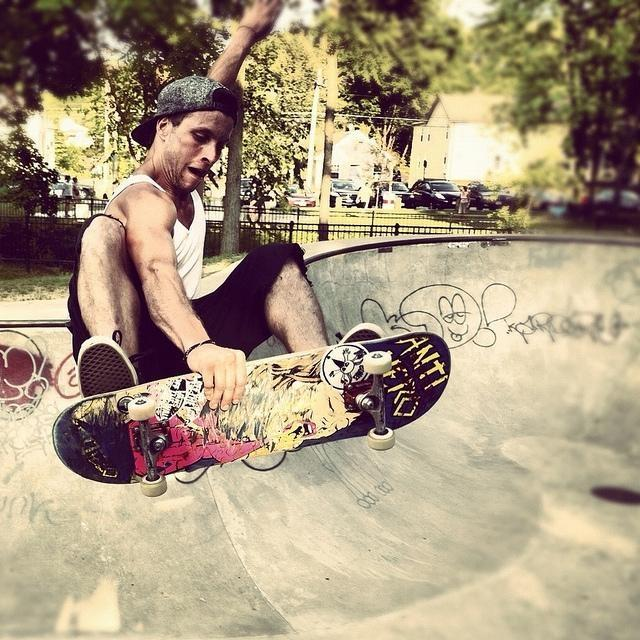car: (560, 188, 640, 221), (396, 178, 448, 213), (412, 181, 460, 210), (46, 172, 96, 198), (468, 184, 515, 210), (270, 184, 316, 208), (382, 180, 410, 208), (331, 180, 358, 208), (356, 178, 378, 208), (240, 178, 257, 200)
